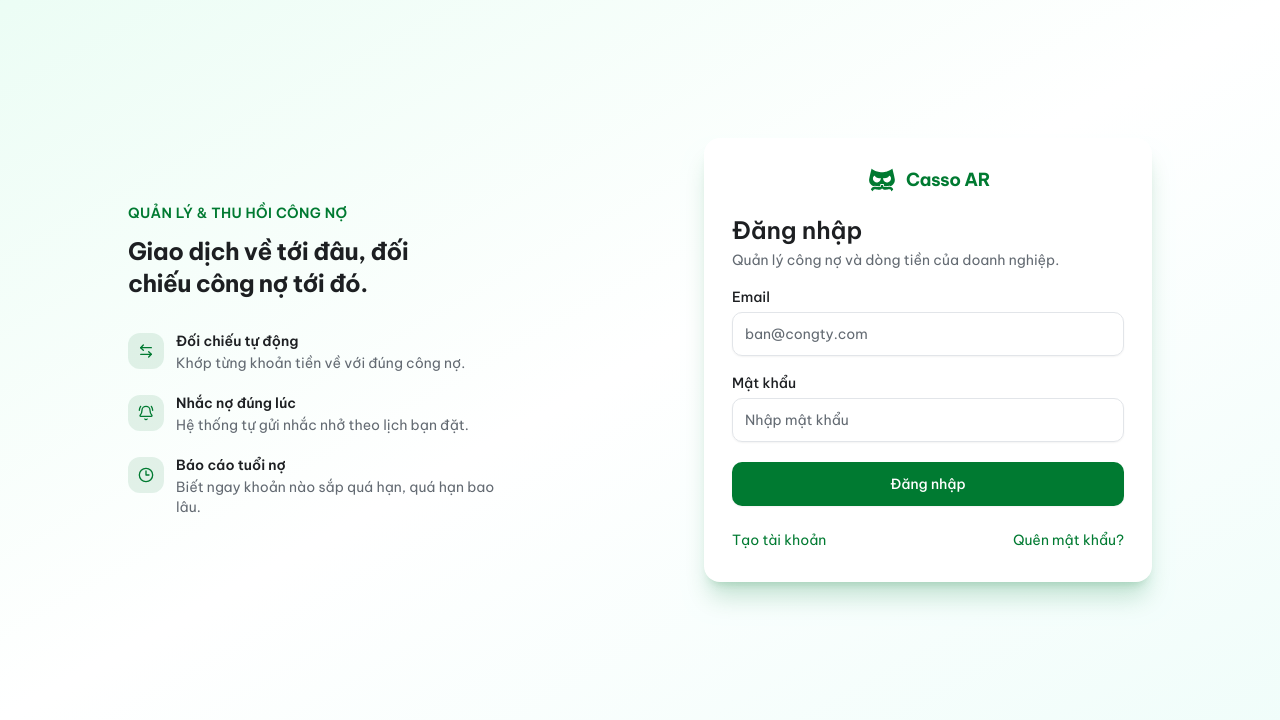
authentication routes › shows a spinner while login is pending
Type "owner@casso.vn" into the field labelled "Email" at [928, 334], box [732,312,1124,356]
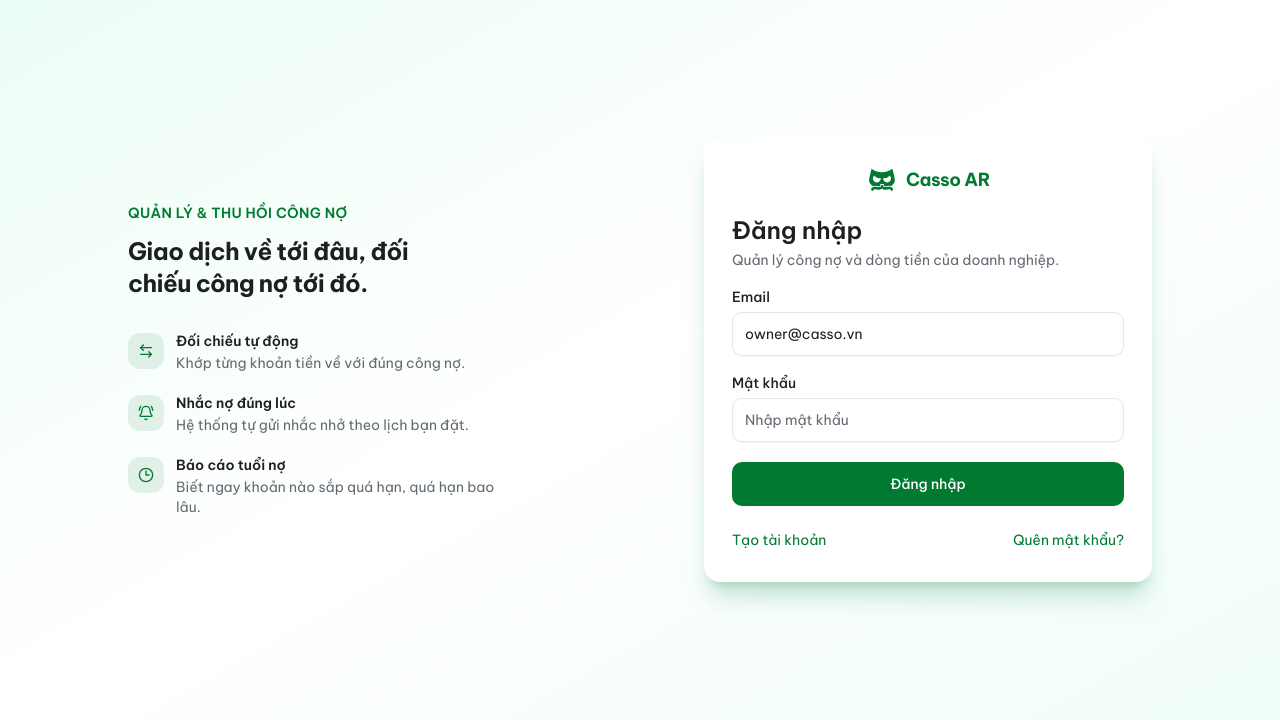
Type "secret123" into the password field labelled "Mật khẩu" at [928, 420], box [732,398,1124,442]
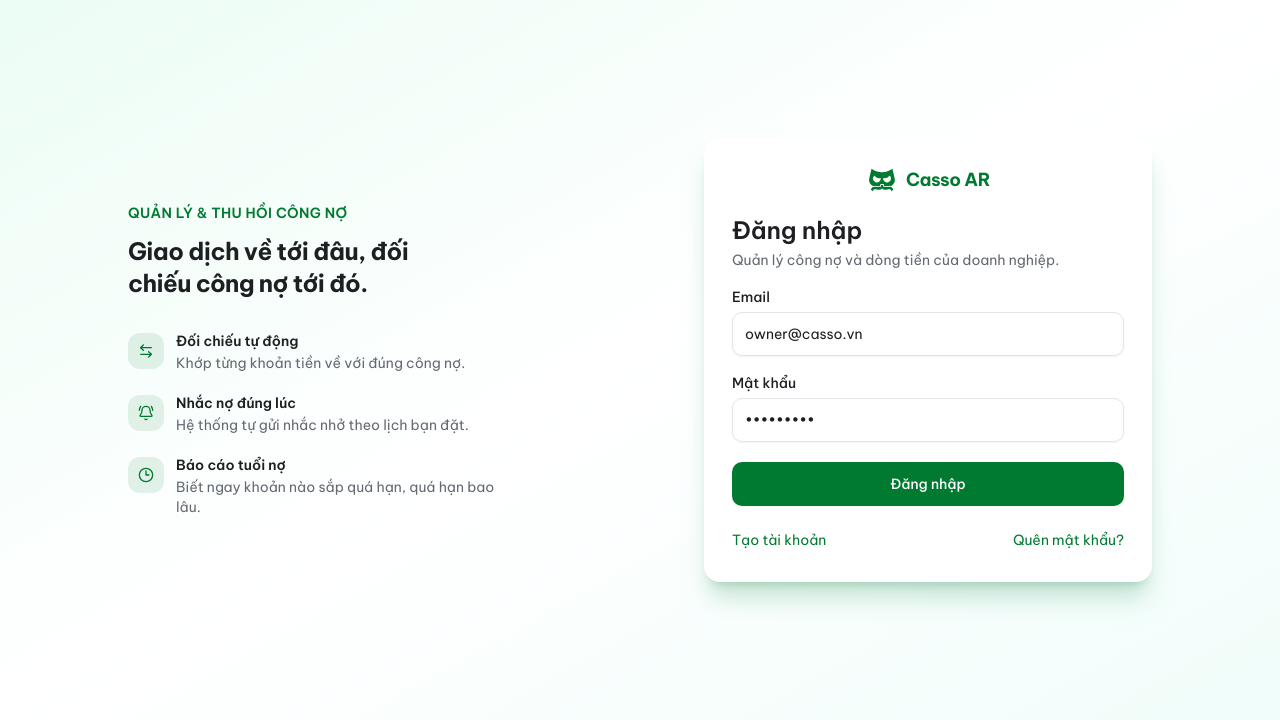
Click the button "Đăng nhập" at [928, 484], box [732,462,1124,506]
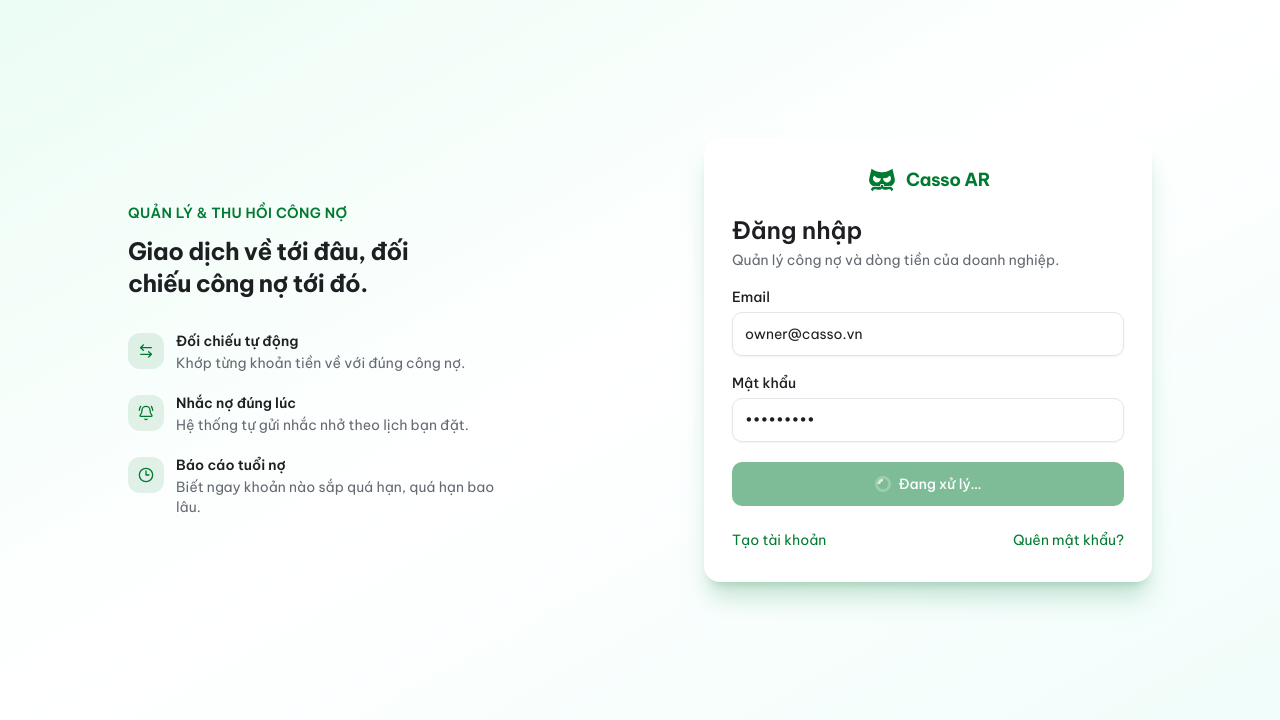
Expected: the icon below "Email" is shown, [875,476,891,492]
